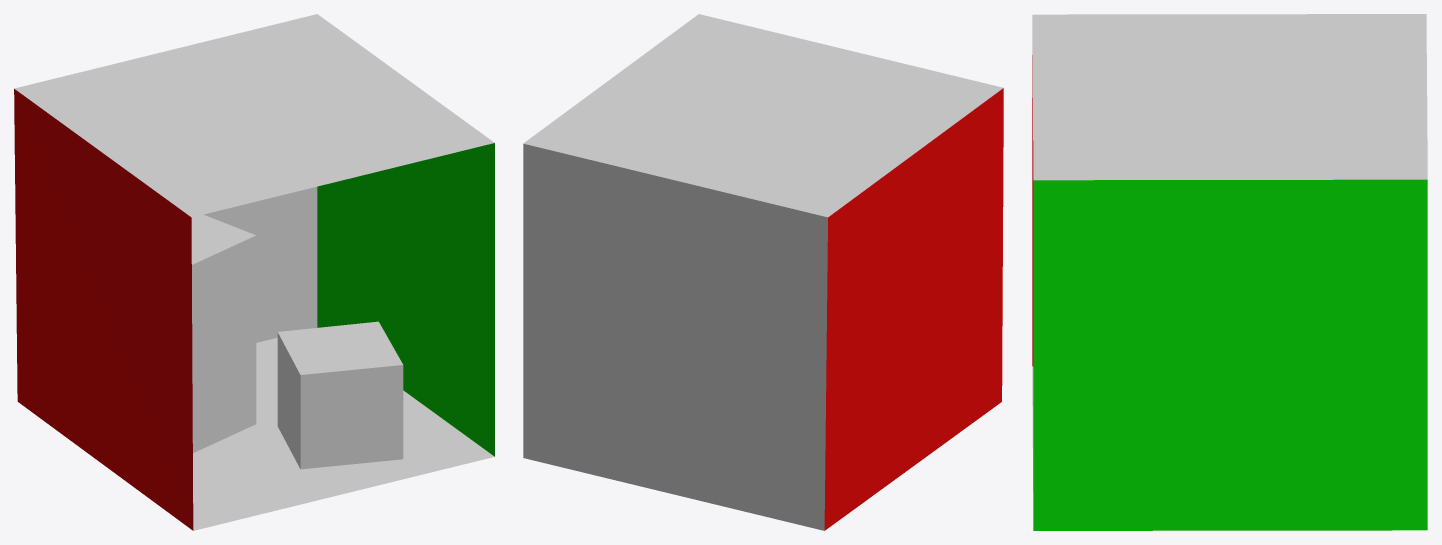
The model's file is cornell_box.obj.
3 views of the same model, side by side, from view 1: azimuth 30°, elevation 25°; view 2: azimuth 150°, elevation 25°; view 3: azimuth 270°, elevation 25° (orthographic). The views are drawn at different scales.
Visible parts, largest first — view 1: red_wall.001, ceiling.001, green_wall.001, floor.001, short_block.001, tall_block.001, back_wall.001; view 2: back_wall.001, red_wall.001, ceiling.001; view 3: green_wall.001, ceiling.001, red_wall.001.
Boxes of the visible parts, <box> form: red_wall.001: <box>14,89,193,530</box>; ceiling.001: <box>14,14,494,217</box>; green_wall.001: <box>317,143,494,456</box>; floor.001: <box>193,337,494,530</box>; short_block.001: <box>277,321,403,469</box>; tall_block.001: <box>191,214,256,452</box>; back_wall.001: <box>204,186,317,342</box>; back_wall.001: <box>523,143,827,530</box>; red_wall.001: <box>824,88,1003,530</box>; ceiling.001: <box>523,14,1003,217</box>; green_wall.001: <box>1033,179,1427,530</box>; ceiling.001: <box>1032,14,1427,180</box>; red_wall.001: <box>1032,55,1033,366</box>.
Bounding box in the file's own units: 1.81 × 1.78 × 1.82.
